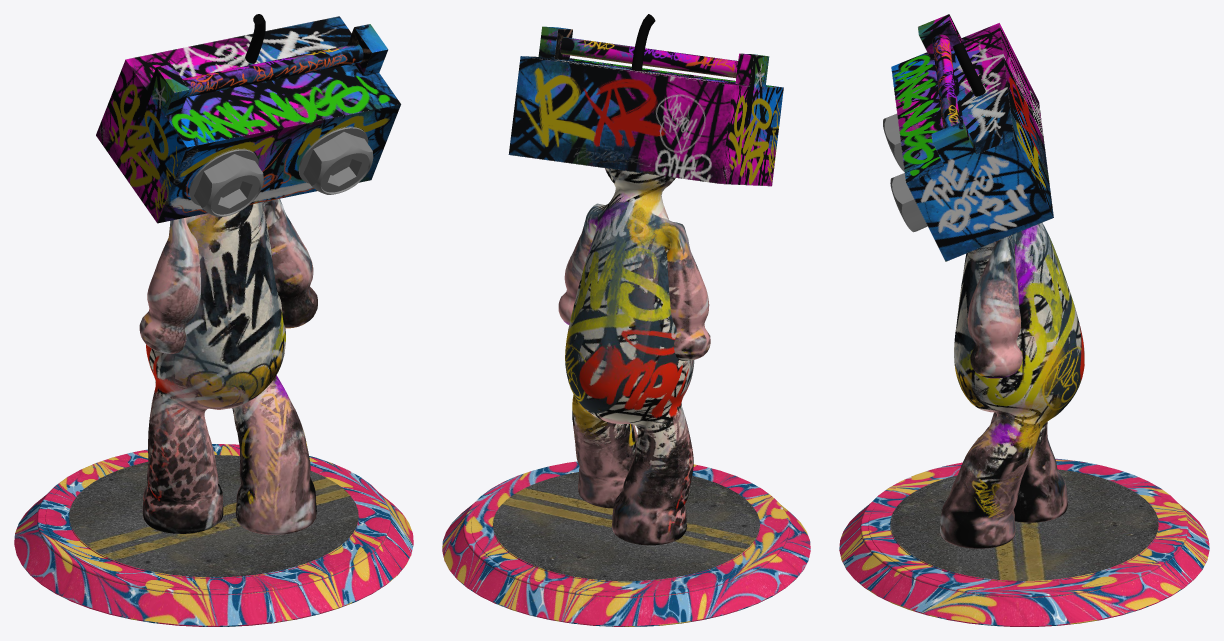
The model's file is 333_sanitized.glb.
3 views of the same model, side by side, from view 1: azimuth 30°, elevation 25°; view 2: azimuth 150°, elevation 25°; view 3: azimuth 270°, elevation 25° (orthographic). The views are drawn at different scales.
Visible parts, largest first — view 1: BBody; view 2: BBody; view 3: BBody.
Boxes of the visible parts, box(x1,y1,x2,y2) form: BBody: box(14, 14, 413, 626); BBody: box(442, 14, 810, 626); BBody: box(839, 14, 1209, 626).
Bounding box in the file's own units: 1.45 × 2.2 × 1.45.
Materials: 6 (4 with a texture image).
